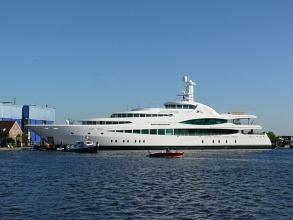otherboat: (62, 132, 102, 156), (148, 145, 187, 159)
yacht: (24, 73, 275, 149)
